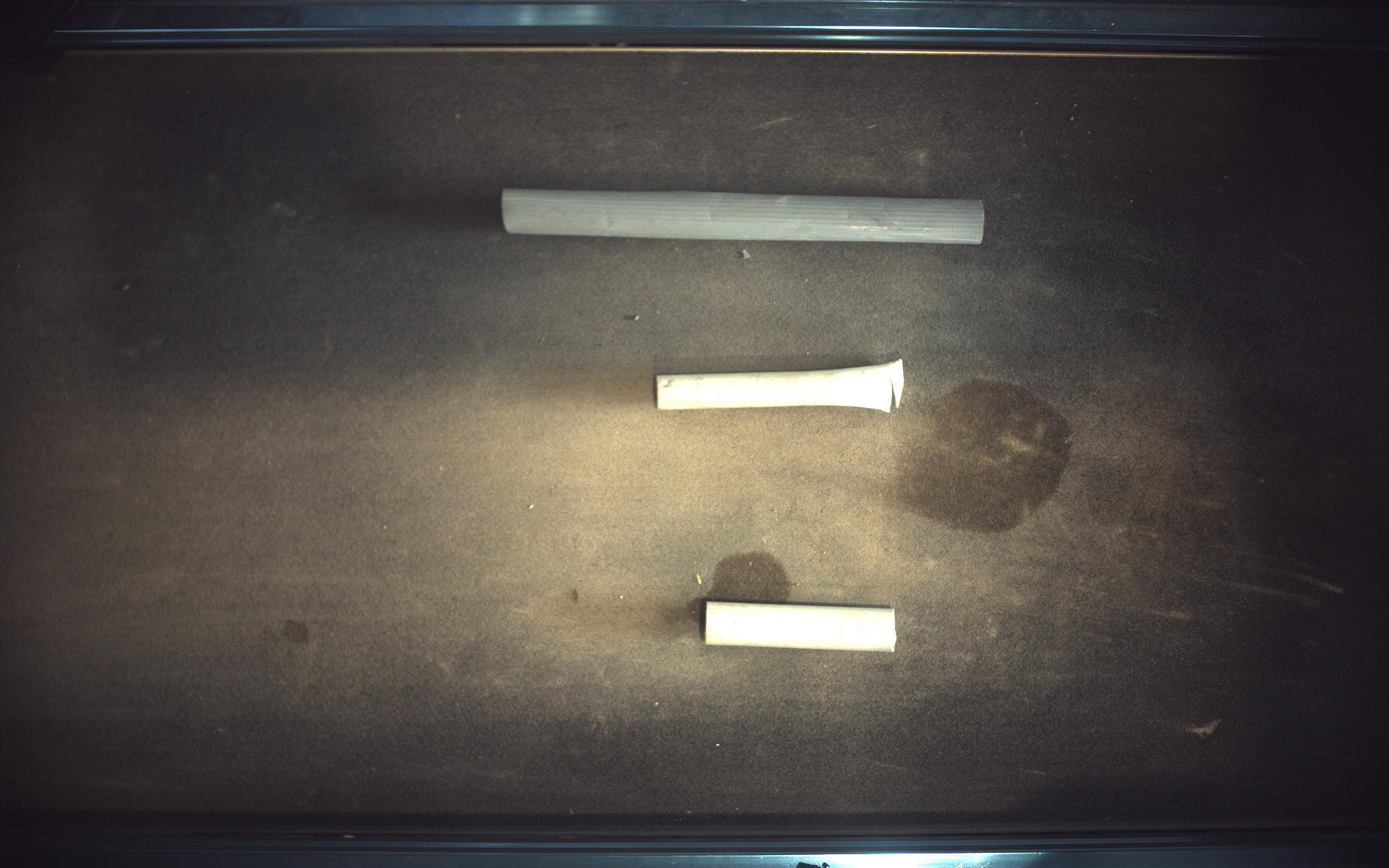pipes: (502, 188, 986, 244), (657, 359, 906, 412), (705, 601, 898, 652)
